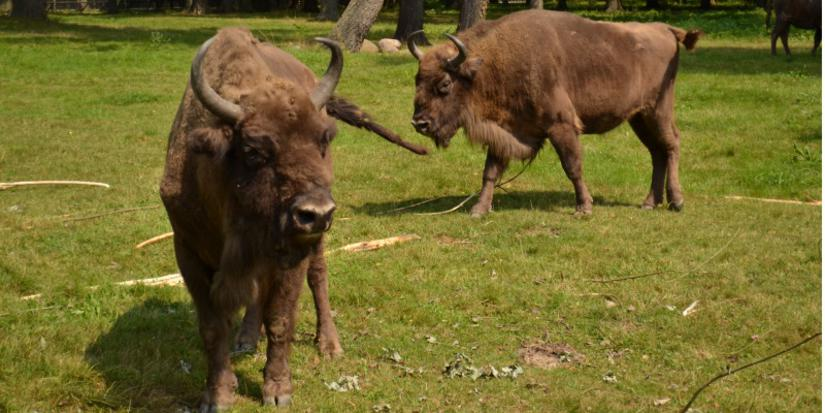zubr: (125, 5, 372, 405), (400, 1, 723, 215)
